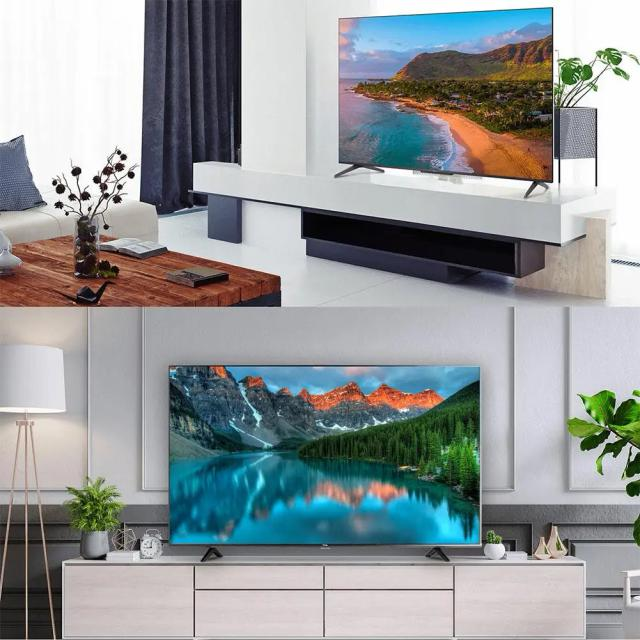appliances: (171, 366, 478, 545), (338, 9, 552, 182), (0, 345, 65, 636), (342, 171, 343, 172), (346, 170, 348, 170)
electronics: (54, 279, 114, 304), (99, 238, 167, 258), (166, 265, 228, 286), (412, 169, 483, 183), (0, 231, 21, 276), (111, 522, 137, 551), (139, 528, 162, 558), (547, 525, 567, 558), (413, 169, 462, 182), (100, 238, 141, 253), (533, 536, 551, 559), (107, 549, 139, 561), (483, 542, 504, 559), (200, 547, 222, 561), (503, 550, 527, 560), (412, 169, 438, 178), (438, 174, 462, 183), (458, 175, 483, 180)
